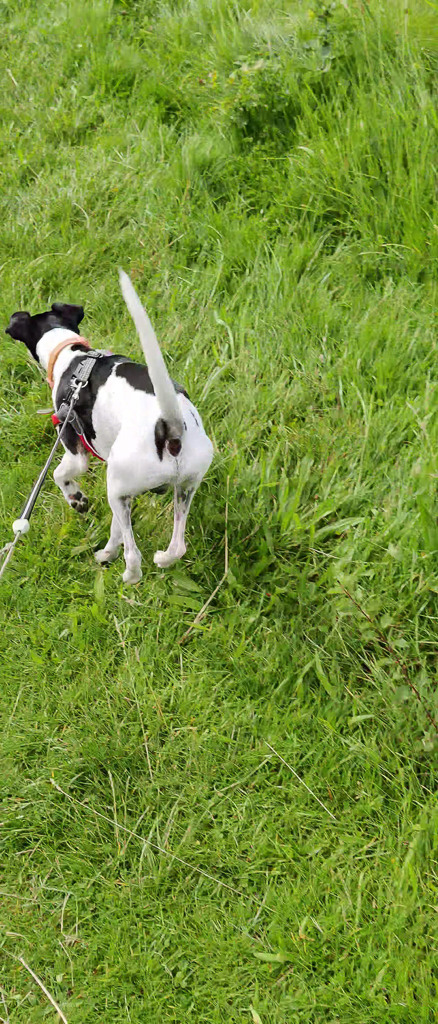Dog: (0, 255, 224, 604)
